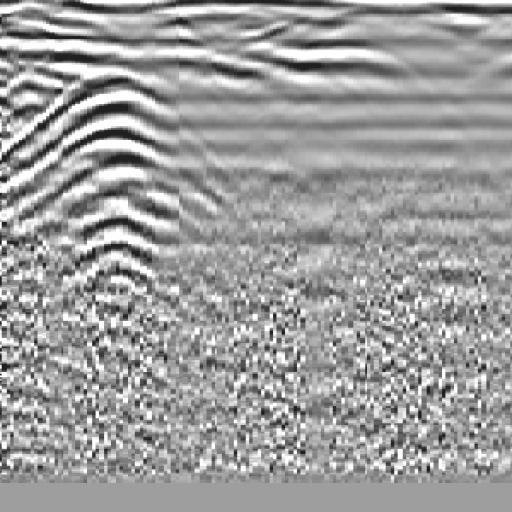metalic: (2, 48, 209, 340)
